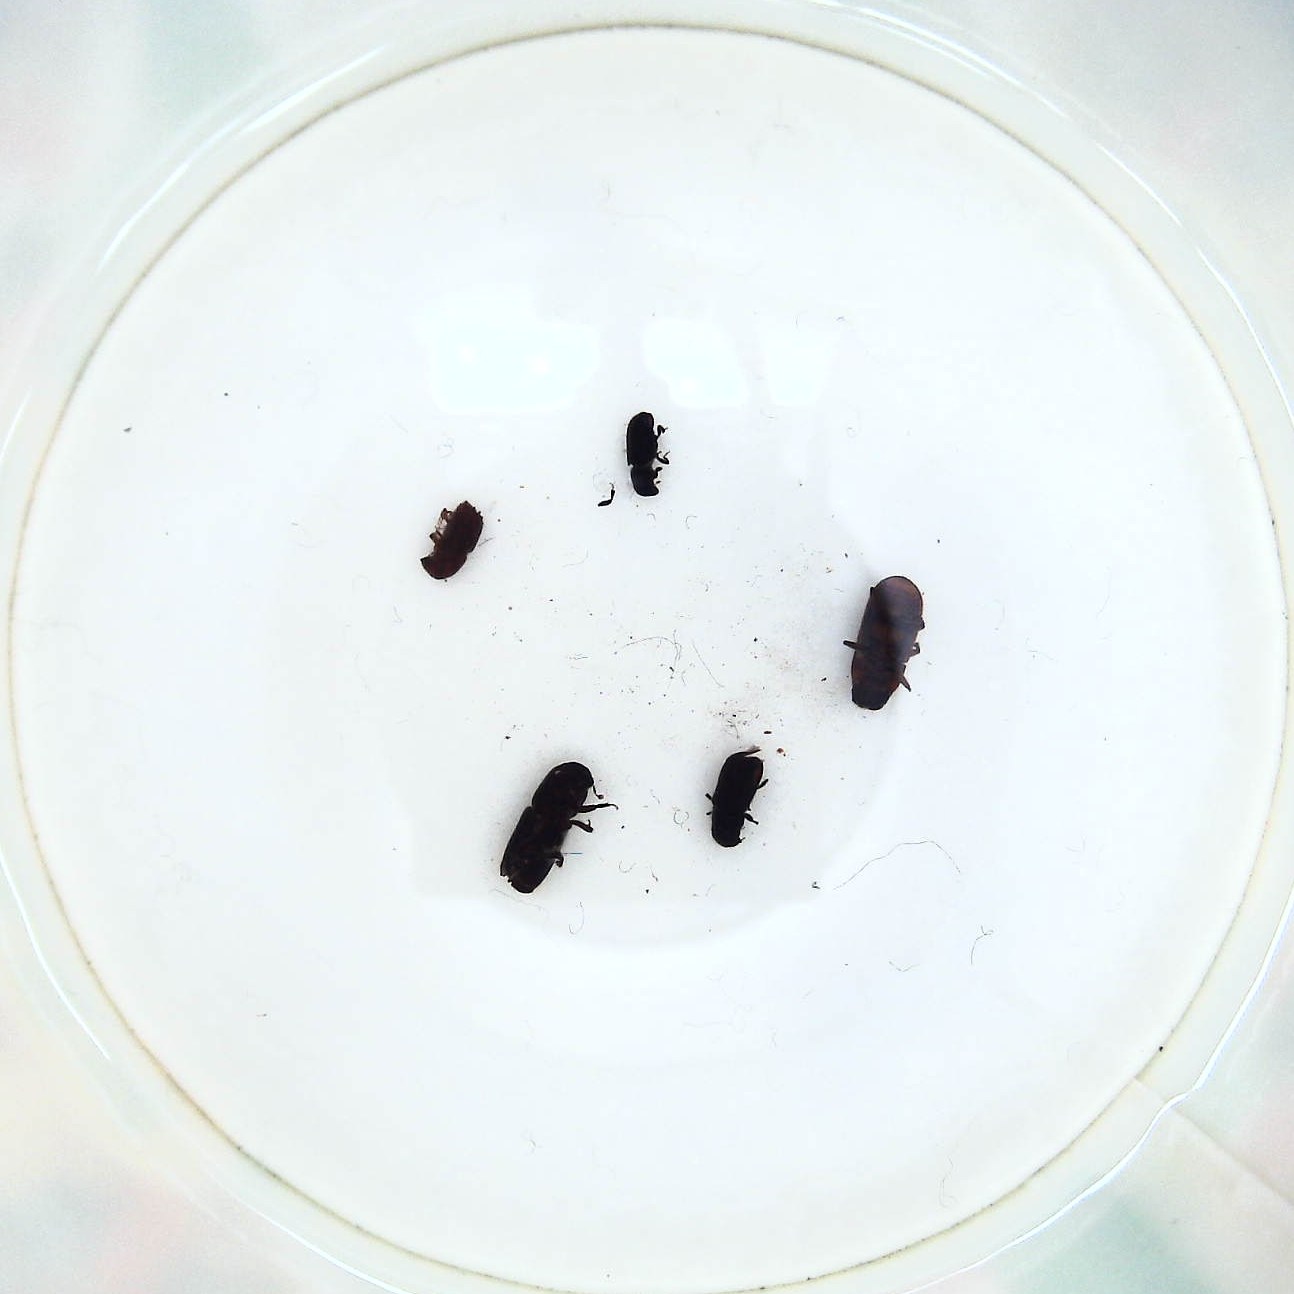Boerner: (494, 757, 623, 901)
Leconte: (845, 572, 933, 720)
armandi: (703, 750, 774, 850)
coleoptera: (623, 406, 675, 502)
linnaeus: (419, 498, 486, 587)
